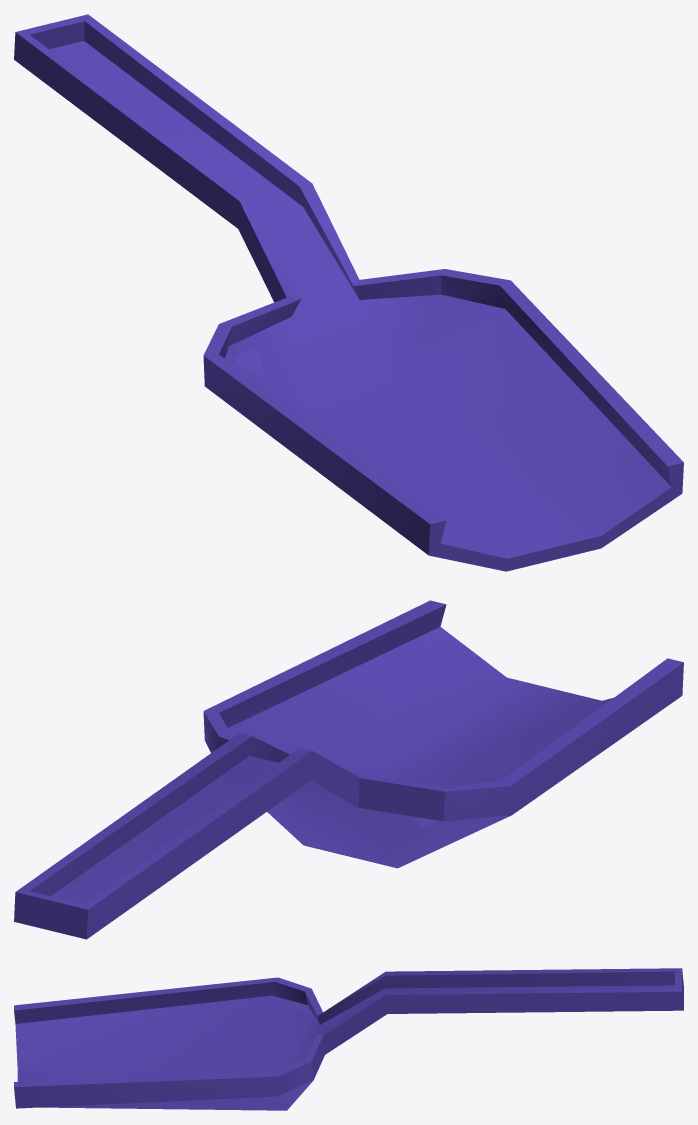
File: Sand_Shovel.obj
3 views of the same model, one above another, from view 1: azimuth 30°, elevation 25°; view 2: azimuth 150°, elevation 25°; view 3: azimuth 270°, elevation 25° (orthographic). The views are drawn at different scales.
Parts seen in each view (by area): view 1: Sand_Shovel; view 2: Sand_Shovel; view 3: Sand_Shovel.
Part boxes in pixels (left/top/right/bottom): Sand_Shovel: left=14, top=14, right=683, bottom=571; Sand_Shovel: left=14, top=600, right=683, bottom=939; Sand_Shovel: left=14, top=968, right=683, bottom=1110.
Bounding box in the file's own units: 0.1597 × 0.0868 × 0.4561.
